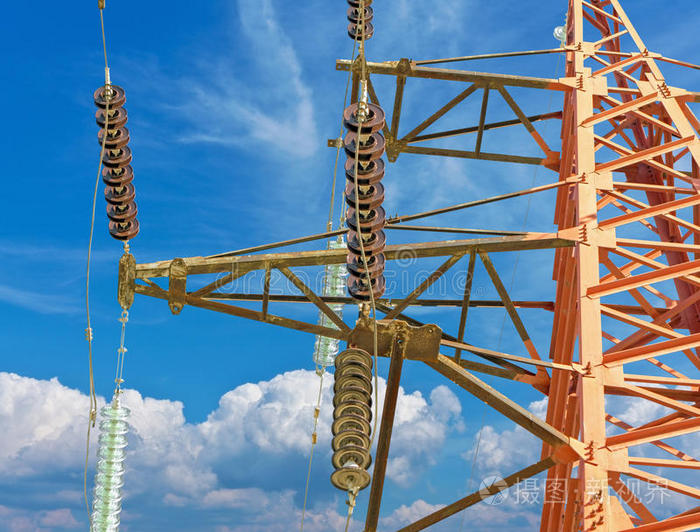insulator: (341, 102, 387, 300), (93, 83, 141, 240), (329, 347, 374, 491), (90, 402, 130, 532), (311, 242, 346, 365), (345, 1, 375, 42)
